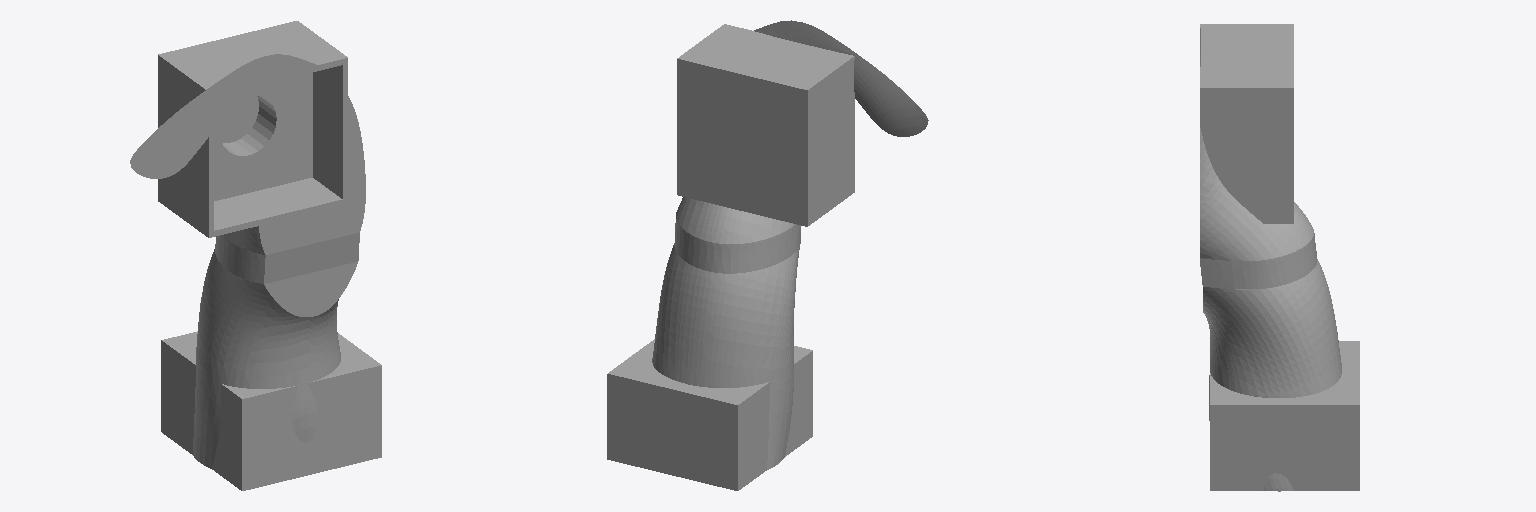
The robot description file, URDF, robot "FrogBot2_top-FrogBot2-x-2_bottom-FrogBot2-x-2":
<?xml version="1.0" ?>
<robot name="FrogBot2_top-FrogBot2-x-2_bottom-FrogBot2-x-2">

<material name="pla_5_percent_infill">
  <color rgba="0.700 0.700 0.700 1.000"/>
</material>

<link name="base_link">
  <inertial>
    <origin xyz="0 0 0" rpy="0 0 0"/>
    <mass value="1.3341577719423"/>
    <inertia ixx="0.0046797925109551535" iyy="0.011134478382956134" izz="0.010477176548232365" ixy="0.00012495104989682066" iyz="8.213962567094231e-05" ixz="-0.002474445058077273"/>
  </inertial>
  <visual>
    <origin xyz="0 0 0" rpy="0 0 0"/>
    <geometry>
      <mesh filename="simple_meshes/base_link.stl" scale="0.001 0.001 0.001"/>
    </geometry>
    <material name="pla_5_percent_infill"/>
  </visual>
  <collision>
    <origin xyz="0 0 0" rpy="0 0 0"/>
    <geometry>
      <mesh filename="simple_meshes/base_link.stl" scale="0.001 0.001 0.001"/>
    </geometry>
  </collision>
</link>

<link name="body_1_0_1">
  <inertial>
    <origin xyz="-0.053395 -0.09218 -0.023663" rpy="0 0 0"/>
    <mass value="0.05414963928909878"/>
    <inertia ixx="7.322096398285007e-05" iyy="7.66397325665337e-05" izz="1.852062050390342e-05" ixy="-2.89712407299165e-07" iyz="5.010657402395387e-06" ixz="8.030697066409615e-06"/>
  </inertial>
  <visual>
    <origin xyz="-0.053395 -0.09218 -0.023663" rpy="0 0 0"/>
    <geometry>
      <mesh filename="simple_meshes/body_1_0_1.stl" scale="0.001 0.001 0.001"/>
    </geometry>
    <material name="pla_5_percent_infill"/>
  </visual>
  <collision>
    <origin xyz="-0.053395 -0.09218 -0.023663" rpy="0 0 0"/>
    <geometry>
      <mesh filename="simple_meshes/body_1_0_1.stl" scale="0.001 0.001 0.001"/>
    </geometry>
  </collision>
</link>

<link name="body_1_1_1">
  <inertial>
    <origin xyz="0.095032 -0.09218 0.005345" rpy="0 0 0"/>
    <mass value="0.10539053543497807"/>
    <inertia ixx="7.648656435558371e-05" iyy="0.0001430534796682749" izz="0.00010447052140463795" ixy="4.835148880669203e-06" iyz="5.2590464795311325e-06" ixz="-4.030977417903884e-05"/>
  </inertial>
  <visual>
    <origin xyz="0.095032 -0.09218 0.005345" rpy="0 0 0"/>
    <geometry>
      <mesh filename="simple_meshes/body_1_1_1.stl" scale="0.001 0.001 0.001"/>
    </geometry>
    <material name="pla_5_percent_infill"/>
  </visual>
  <collision>
    <origin xyz="0.095032 -0.09218 0.005345" rpy="0 0 0"/>
    <geometry>
      <mesh filename="simple_meshes/body_1_1_1.stl" scale="0.001 0.001 0.001"/>
    </geometry>
  </collision>
</link>

<link name="body_1_2_1">
  <inertial>
    <origin xyz="-0.041549 0.09218 -0.043945" rpy="0 0 0"/>
    <mass value="0.06269270497452402"/>
    <inertia ixx="0.0001274523522902082" iyy="0.00013273599338279397" izz="2.9663636528539598e-05" ixy="1.6049821966907267e-06" iyz="-1.789621160224474e-05" ixz="1.923788717101208e-05"/>
  </inertial>
  <visual>
    <origin xyz="-0.041549 0.09218 -0.043945" rpy="0 0 0"/>
    <geometry>
      <mesh filename="simple_meshes/body_1_2_1.stl" scale="0.001 0.001 0.001"/>
    </geometry>
    <material name="pla_5_percent_infill"/>
  </visual>
  <collision>
    <origin xyz="-0.041549 0.09218 -0.043945" rpy="0 0 0"/>
    <geometry>
      <mesh filename="simple_meshes/body_1_2_1.stl" scale="0.001 0.001 0.001"/>
    </geometry>
  </collision>
</link>

<link name="body_1_3_1">
  <inertial>
    <origin xyz="0.087142 0.09218 -0.003397" rpy="0 0 0"/>
    <mass value="0.10787180234964276"/>
    <inertia ixx="7.886455923860084e-05" iyy="0.00014385653190250548" izz="0.0001048913590200179" ixy="-7.808333796017293e-06" iyz="-5.332847926788661e-06" ixz="-4.051559471153574e-05"/>
  </inertial>
  <visual>
    <origin xyz="0.087142 0.09218 -0.003397" rpy="0 0 0"/>
    <geometry>
      <mesh filename="simple_meshes/body_1_3_1.stl" scale="0.001 0.001 0.001"/>
    </geometry>
    <material name="pla_5_percent_infill"/>
  </visual>
  <collision>
    <origin xyz="0.087142 0.09218 -0.003397" rpy="0 0 0"/>
    <geometry>
      <mesh filename="simple_meshes/body_1_3_1.stl" scale="0.001 0.001 0.001"/>
    </geometry>
  </collision>
</link>

<link name="body_2_0_1">
  <inertial>
    <origin xyz="-0.065654 -0.139685 0.104558" rpy="0 0 0"/>
    <mass value="0.10406700997069096"/>
    <inertia ixx="0.00011346126229997647" iyy="0.00012540832924920302" izz="0.00018991199658074552" ixy="-1.0599562162534864e-05" iyz="5.623529840863197e-06" ixz="6.012270217499102e-06"/>
  </inertial>
  <visual>
    <origin xyz="-0.065654 -0.139685 0.104558" rpy="0 0 0"/>
    <geometry>
      <mesh filename="simple_meshes/body_2_0_1.stl" scale="0.001 0.001 0.001"/>
    </geometry>
    <material name="pla_5_percent_infill"/>
  </visual>
  <collision>
    <origin xyz="-0.065654 -0.139685 0.104558" rpy="0 0 0"/>
    <geometry>
      <mesh filename="simple_meshes/body_2_0_1.stl" scale="0.001 0.001 0.001"/>
    </geometry>
  </collision>
</link>

<link name="body_2_1_1">
  <inertial>
    <origin xyz="0.15751 -0.143533 0.104558" rpy="0 0 0"/>
    <mass value="0.0838339036483167"/>
    <inertia ixx="7.079126809306138e-05" iyy="8.554588669685333e-05" izz="9.618263412858666e-05" ixy="-1.6466551472772532e-07" iyz="1.9491246345120904e-05" ixz="1.100508674867131e-05"/>
  </inertial>
  <visual>
    <origin xyz="0.15751 -0.143533 0.104558" rpy="0 0 0"/>
    <geometry>
      <mesh filename="simple_meshes/body_2_1_1.stl" scale="0.001 0.001 0.001"/>
    </geometry>
    <material name="pla_5_percent_infill"/>
  </visual>
  <collision>
    <origin xyz="0.15751 -0.143533 0.104558" rpy="0 0 0"/>
    <geometry>
      <mesh filename="simple_meshes/body_2_1_1.stl" scale="0.001 0.001 0.001"/>
    </geometry>
  </collision>
</link>

<link name="body_2_2_1">
  <inertial>
    <origin xyz="-0.061161 0.145934 0.104558" rpy="0 0 0"/>
    <mass value="0.10170962552979187"/>
    <inertia ixx="0.00011361666083858392" iyy="0.00012234015262982357" izz="0.000189771339919756" ixy="1.1740307942443781e-05" iyz="-3.1636338973235582e-06" ixz="3.0916583550935194e-06"/>
  </inertial>
  <visual>
    <origin xyz="-0.061161 0.145934 0.104558" rpy="0 0 0"/>
    <geometry>
      <mesh filename="simple_meshes/body_2_2_1.stl" scale="0.001 0.001 0.001"/>
    </geometry>
    <material name="pla_5_percent_infill"/>
  </visual>
  <collision>
    <origin xyz="-0.061161 0.145934 0.104558" rpy="0 0 0"/>
    <geometry>
      <mesh filename="simple_meshes/body_2_2_1.stl" scale="0.001 0.001 0.001"/>
    </geometry>
  </collision>
</link>

<link name="body_2_3_1">
  <inertial>
    <origin xyz="0.160089 0.145768 0.104558" rpy="0 0 0"/>
    <mass value="0.07875681307487732"/>
    <inertia ixx="7.258512439480523e-05" iyy="8.114153741713755e-05" izz="9.064756746616316e-05" ixy="-5.987692897877796e-07" iyz="-2.1021696683060174e-05" ixz="1.4471384925871834e-05"/>
  </inertial>
  <visual>
    <origin xyz="0.160089 0.145768 0.104558" rpy="0 0 0"/>
    <geometry>
      <mesh filename="simple_meshes/body_2_3_1.stl" scale="0.001 0.001 0.001"/>
    </geometry>
    <material name="pla_5_percent_infill"/>
  </visual>
  <collision>
    <origin xyz="0.160089 0.145768 0.104558" rpy="0 0 0"/>
    <geometry>
      <mesh filename="simple_meshes/body_2_3_1.stl" scale="0.001 0.001 0.001"/>
    </geometry>
  </collision>
</link>

<joint name="joint_1_0" type="revolute">
  <origin xyz="0.053395 0.09218 0.023663" rpy="0 0 0"/>
  <parent link="base_link"/>
  <child link="body_1_0_1"/>
  <axis xyz="1.0 0.0 0.0"/>
  <limit upper="1.2" lower="-1.2" effort="3.8" velocity="5.4"/>
</joint>
<transmission name="joint_1_0_tran">
  <type>transmission_interface/SimpleTransmission</type>
  <joint name="joint_1_0">
    <hardwareInterface>PositionJointInterface</hardwareInterface>
  </joint>
  <actuator name="joint_1_0_actr">
    <hardwareInterface>PositionJointInterface</hardwareInterface>
    <mechanicalReduction>1</mechanicalReduction>
  </actuator>
</transmission>

<joint name="joint_1_1" type="revolute">
  <origin xyz="-0.095032 0.09218 -0.005345" rpy="0 0 0"/>
  <parent link="base_link"/>
  <child link="body_1_1_1"/>
  <axis xyz="1.0 0.0 0.0"/>
  <limit upper="1.2" lower="-1.2" effort="3.8" velocity="5.4"/>
</joint>
<transmission name="joint_1_1_tran">
  <type>transmission_interface/SimpleTransmission</type>
  <joint name="joint_1_1">
    <hardwareInterface>PositionJointInterface</hardwareInterface>
  </joint>
  <actuator name="joint_1_1_actr">
    <hardwareInterface>PositionJointInterface</hardwareInterface>
    <mechanicalReduction>1</mechanicalReduction>
  </actuator>
</transmission>

<joint name="joint_1_2" type="revolute">
  <origin xyz="0.041549 -0.09218 0.043945" rpy="0 0 0"/>
  <parent link="base_link"/>
  <child link="body_1_2_1"/>
  <axis xyz="1.0 0.0 0.0"/>
  <limit upper="1.2" lower="-1.2" effort="3.8" velocity="5.4"/>
</joint>
<transmission name="joint_1_2_tran">
  <type>transmission_interface/SimpleTransmission</type>
  <joint name="joint_1_2">
    <hardwareInterface>PositionJointInterface</hardwareInterface>
  </joint>
  <actuator name="joint_1_2_actr">
    <hardwareInterface>PositionJointInterface</hardwareInterface>
    <mechanicalReduction>1</mechanicalReduction>
  </actuator>
</transmission>

<joint name="joint_1_3" type="revolute">
  <origin xyz="-0.087142 -0.09218 0.003397" rpy="0 0 0"/>
  <parent link="base_link"/>
  <child link="body_1_3_1"/>
  <axis xyz="1.0 0.0 0.0"/>
  <limit upper="1.2" lower="-1.2" effort="3.8" velocity="5.4"/>
</joint>
<transmission name="joint_1_3_tran">
  <type>transmission_interface/SimpleTransmission</type>
  <joint name="joint_1_3">
    <hardwareInterface>PositionJointInterface</hardwareInterface>
  </joint>
  <actuator name="joint_1_3_actr">
    <hardwareInterface>PositionJointInterface</hardwareInterface>
    <mechanicalReduction>1</mechanicalReduction>
  </actuator>
</transmission>

<joint name="joint_2_0" type="revolute">
  <origin xyz="0.012259 0.047505 -0.128221" rpy="0 0 0"/>
  <parent link="body_1_0_1"/>
  <child link="body_2_0_1"/>
  <axis xyz="1.0 0.0 0.0"/>
  <limit upper="1.2" lower="-1.2" effort="3.8" velocity="5.4"/>
</joint>
<transmission name="joint_2_0_tran">
  <type>transmission_interface/SimpleTransmission</type>
  <joint name="joint_2_0">
    <hardwareInterface>PositionJointInterface</hardwareInterface>
  </joint>
  <actuator name="joint_2_0_actr">
    <hardwareInterface>PositionJointInterface</hardwareInterface>
    <mechanicalReduction>1</mechanicalReduction>
  </actuator>
</transmission>

<joint name="joint_2_1" type="revolute">
  <origin xyz="-0.062478 0.051353 -0.099213" rpy="0 0 0"/>
  <parent link="body_1_1_1"/>
  <child link="body_2_1_1"/>
  <axis xyz="1.0 0.0 0.0"/>
  <limit upper="1.2" lower="-1.2" effort="3.8" velocity="5.4"/>
</joint>
<transmission name="joint_2_1_tran">
  <type>transmission_interface/SimpleTransmission</type>
  <joint name="joint_2_1">
    <hardwareInterface>PositionJointInterface</hardwareInterface>
  </joint>
  <actuator name="joint_2_1_actr">
    <hardwareInterface>PositionJointInterface</hardwareInterface>
    <mechanicalReduction>1</mechanicalReduction>
  </actuator>
</transmission>

<joint name="joint_2_2" type="revolute">
  <origin xyz="0.019612 -0.053754 -0.148503" rpy="0 0 0"/>
  <parent link="body_1_2_1"/>
  <child link="body_2_2_1"/>
  <axis xyz="1.0 0.0 0.0"/>
  <limit upper="1.2" lower="-1.2" effort="3.8" velocity="5.4"/>
</joint>
<transmission name="joint_2_2_tran">
  <type>transmission_interface/SimpleTransmission</type>
  <joint name="joint_2_2">
    <hardwareInterface>PositionJointInterface</hardwareInterface>
  </joint>
  <actuator name="joint_2_2_actr">
    <hardwareInterface>PositionJointInterface</hardwareInterface>
    <mechanicalReduction>1</mechanicalReduction>
  </actuator>
</transmission>

<joint name="joint_2_3" type="revolute">
  <origin xyz="-0.072947 -0.053588 -0.107955" rpy="0 0 0"/>
  <parent link="body_1_3_1"/>
  <child link="body_2_3_1"/>
  <axis xyz="1.0 0.0 0.0"/>
  <limit upper="1.2" lower="-1.2" effort="3.8" velocity="5.4"/>
</joint>
<transmission name="joint_2_3_tran">
  <type>transmission_interface/SimpleTransmission</type>
  <joint name="joint_2_3">
    <hardwareInterface>PositionJointInterface</hardwareInterface>
  </joint>
  <actuator name="joint_2_3_actr">
    <hardwareInterface>PositionJointInterface</hardwareInterface>
    <mechanicalReduction>1</mechanicalReduction>
  </actuator>
</transmission>

</robot>

--- Render facts (derived) ---
Views: 3 orthographic renders of the robot side by side, from view 1: azimuth 30°, elevation 25°; view 2: azimuth 150°, elevation 25°; view 3: azimuth 270°, elevation 25°.
Model FrogBot2_top-FrogBot2-x-2_bottom-FrogBot2-x-2 with 9 links and 8 joints (8 revolute), rooted at base_link, posed every joint at zero.
Links seen in each view (by area): view 1: body_1_0_1; view 2: body_1_0_1; view 3: body_1_0_1.
Boxes of the visible links, <box> form: body_1_0_1: <box>130,21,381,490</box>; body_1_0_1: <box>607,20,928,490</box>; body_1_0_1: <box>1200,24,1359,491</box>.
Bounding box of the posed robot: 0.0897 × 0.0517 × 0.1439 m (x, y, z).
Meshes: 9 distinct files referenced, 1 mesh visuals loaded (1 binary STL); not drawn: 8 (reference not matched to a file when rendering).